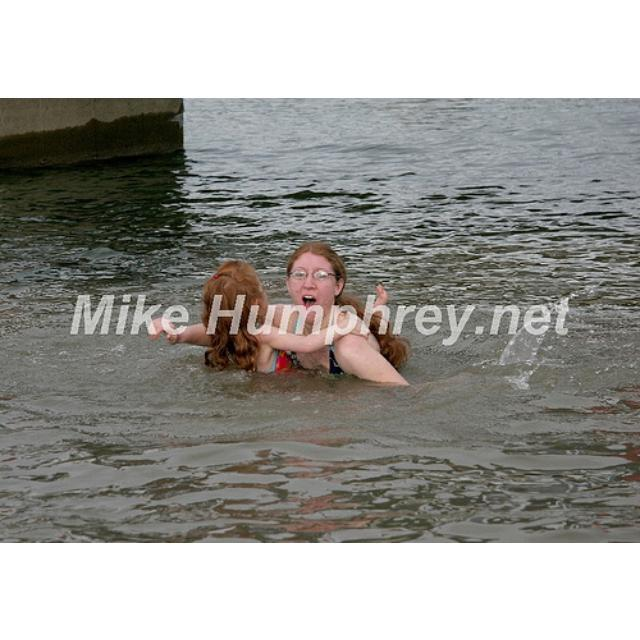human: (286, 240, 399, 378), (185, 254, 281, 375)
